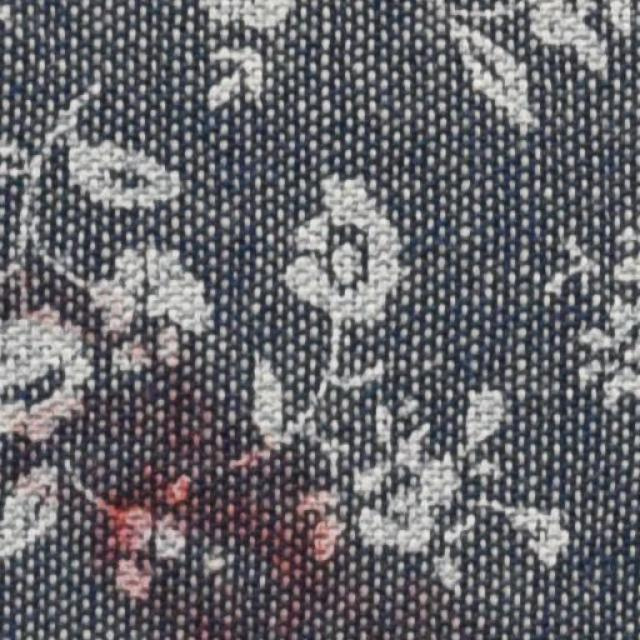Stain: (84, 379, 350, 609)
